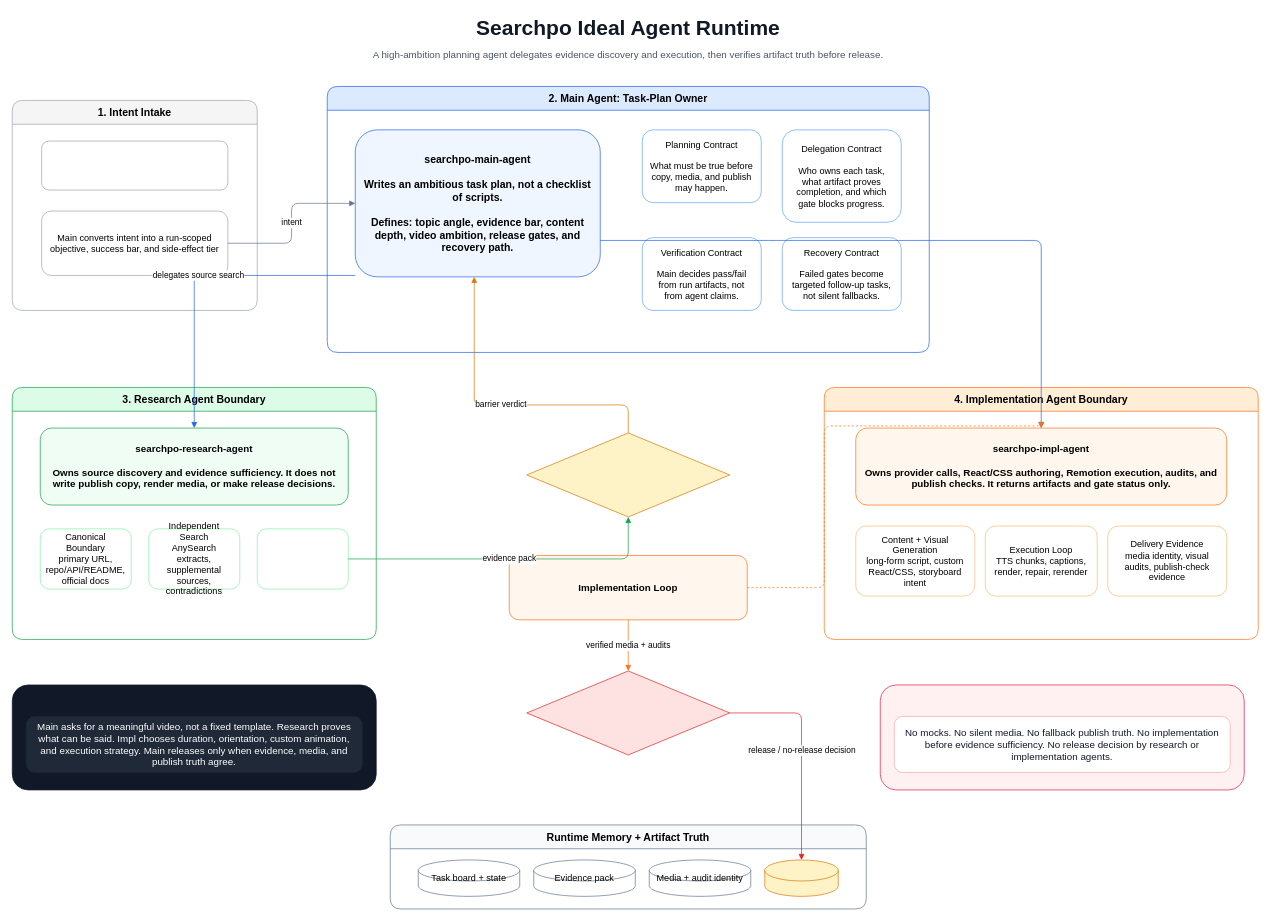
Image size: 1271x921. Some labels were removed from this diagram. Each missing label, with the centre of its shape:
"Evidence Pack facts, source map, topic brief, cross-check verdict" goes at (x=302, y=558).
"Final truth" goes at (x=801, y=877).
"Release Gate" goes at (x=628, y=712).
"Research Barrier" goes at (x=628, y=474).
"User gives a link, topic, or publish request" goes at (x=134, y=165).
